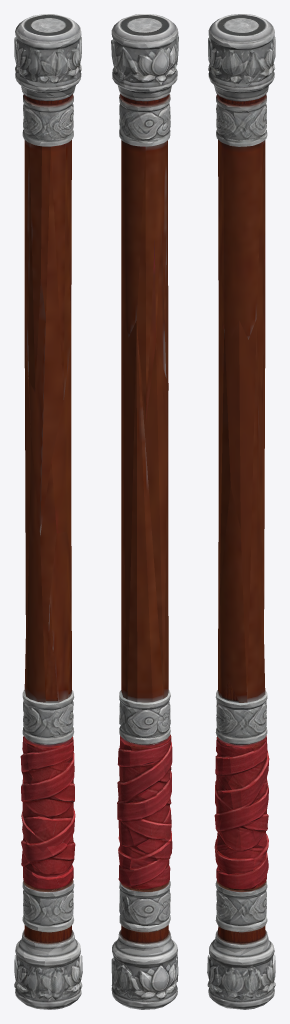
The model's file is staff_2.glb.
3 renders of one model, left to right at view 1: azimuth 90°, elevation 25°; view 2: azimuth 210°, elevation 25°; view 3: azimuth 270°, elevation 25°, orthographic.
Visible parts, largest first — view 1: output_unwrapped; view 2: output_unwrapped; view 3: output_unwrapped.
Boxes of the visible parts, left/top/right/bottom form: output_unwrapped: left=14, top=14, right=82, bottom=1009; output_unwrapped: left=111, top=14, right=178, bottom=1009; output_unwrapped: left=207, top=14, right=275, bottom=1009.
Bounding box in the file's own units: 0.1193 × 1.9 × 0.1218.
Materials: 1 (1 with a texture image).
